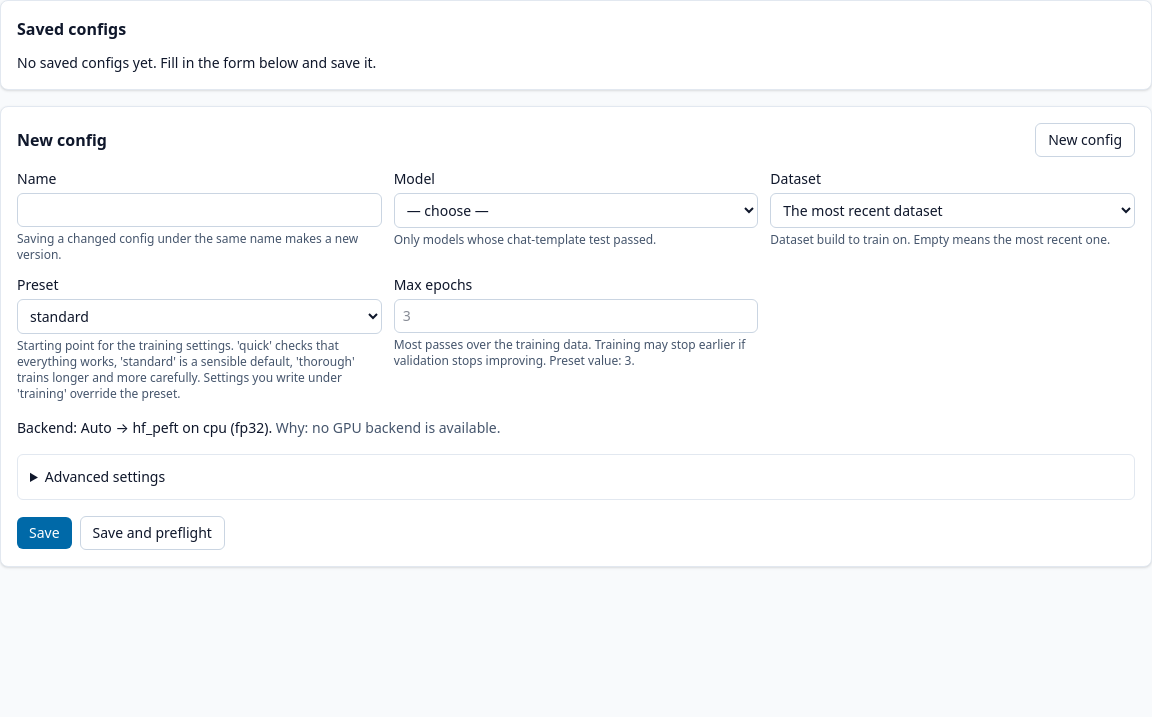
Test case: Training config › validates schema fields live and sends nothing while one is wrong
Expected: the text "Auto → hf_peft" is shown, [17, 418, 500, 437]
Type "cfg" into the field labelled "Name" at (199, 210), box [17, 193, 382, 227]
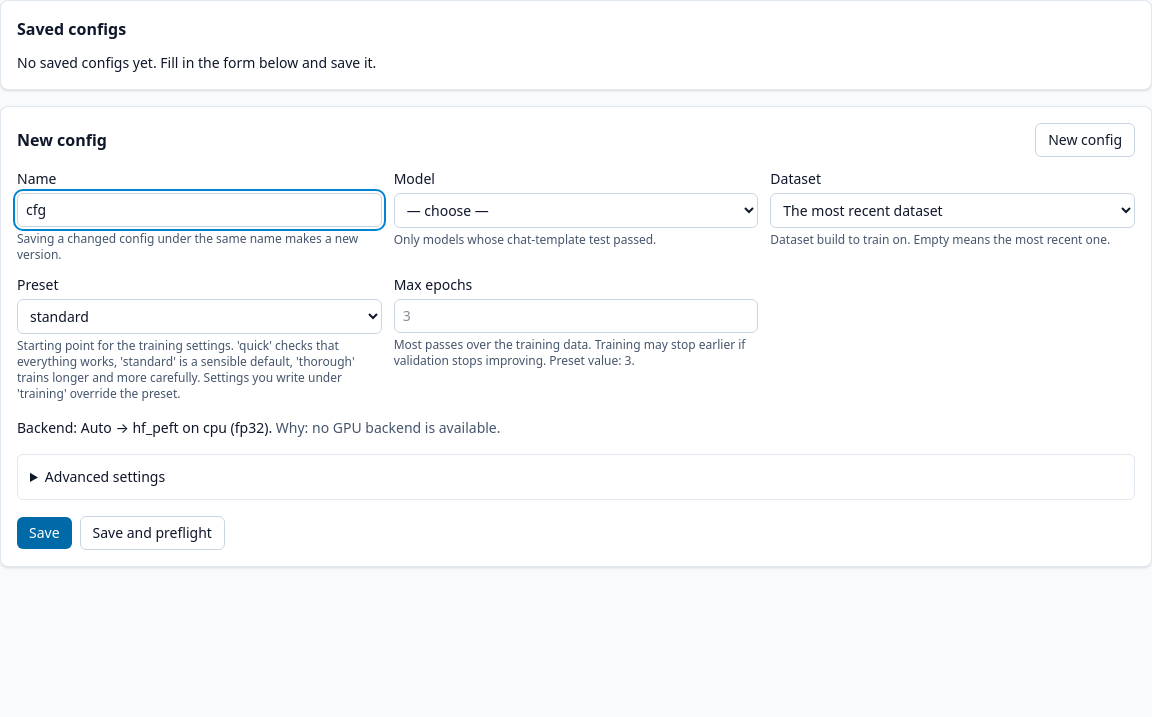
Select "Tiny Qwen2 (test) (0.002B) — fits (estimate)" in the dropdown labelled "Model" at (576, 210), box [394, 193, 758, 228]
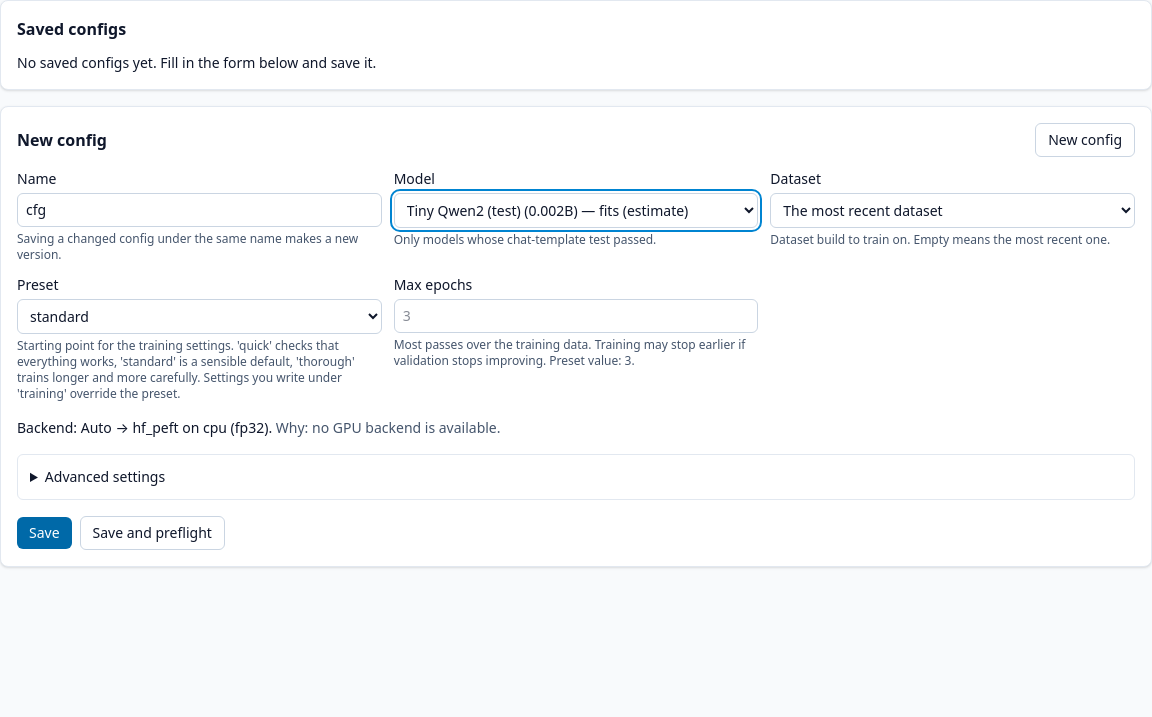
Click the heading "Advanced settings" at (105, 476), box [45, 467, 165, 486]
(page scrolled)
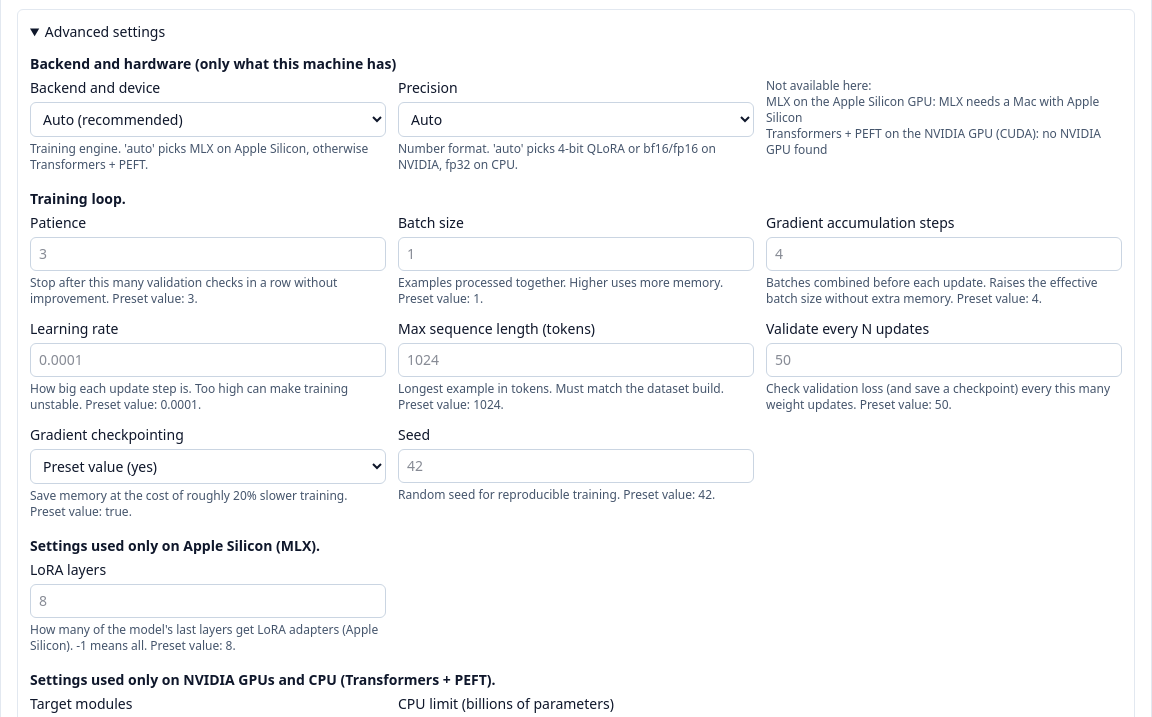
Expected: the text "How big each update step is" is shown, [30, 380, 348, 413]
Type "2" into the field labelled "Learning rate" at (208, 360), box [30, 343, 386, 377]
(page scrolled)
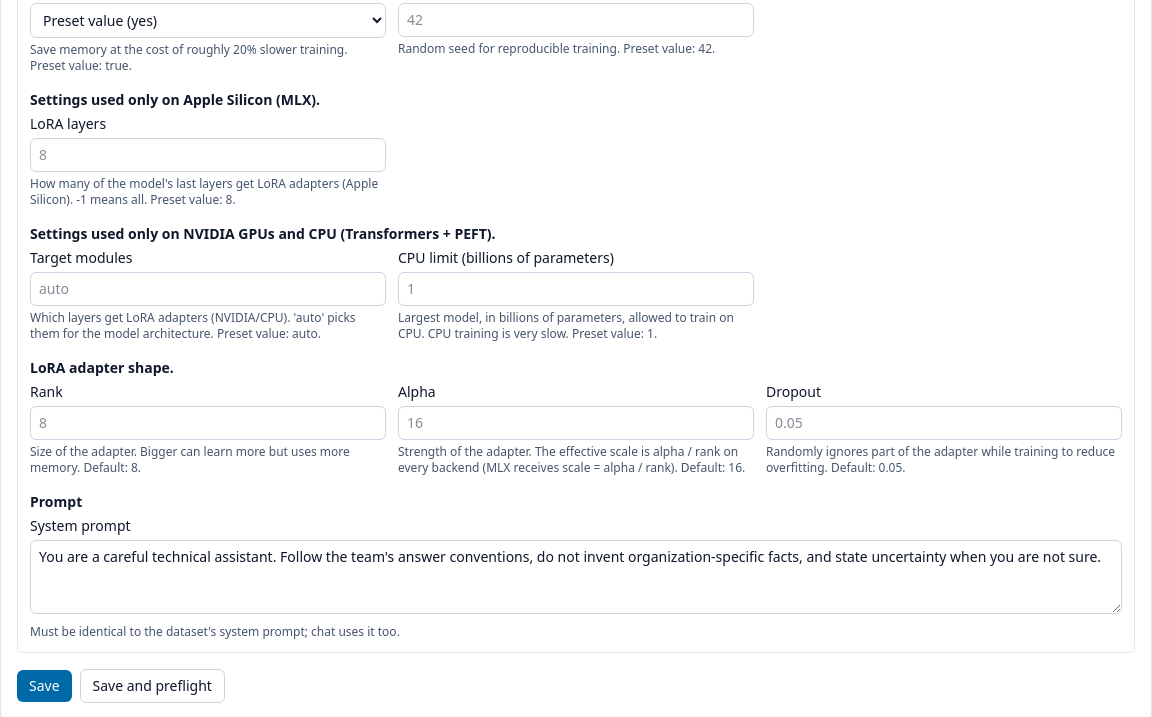
Click the button "Save" at (44, 686), box [17, 670, 72, 702]
(page scrolled)
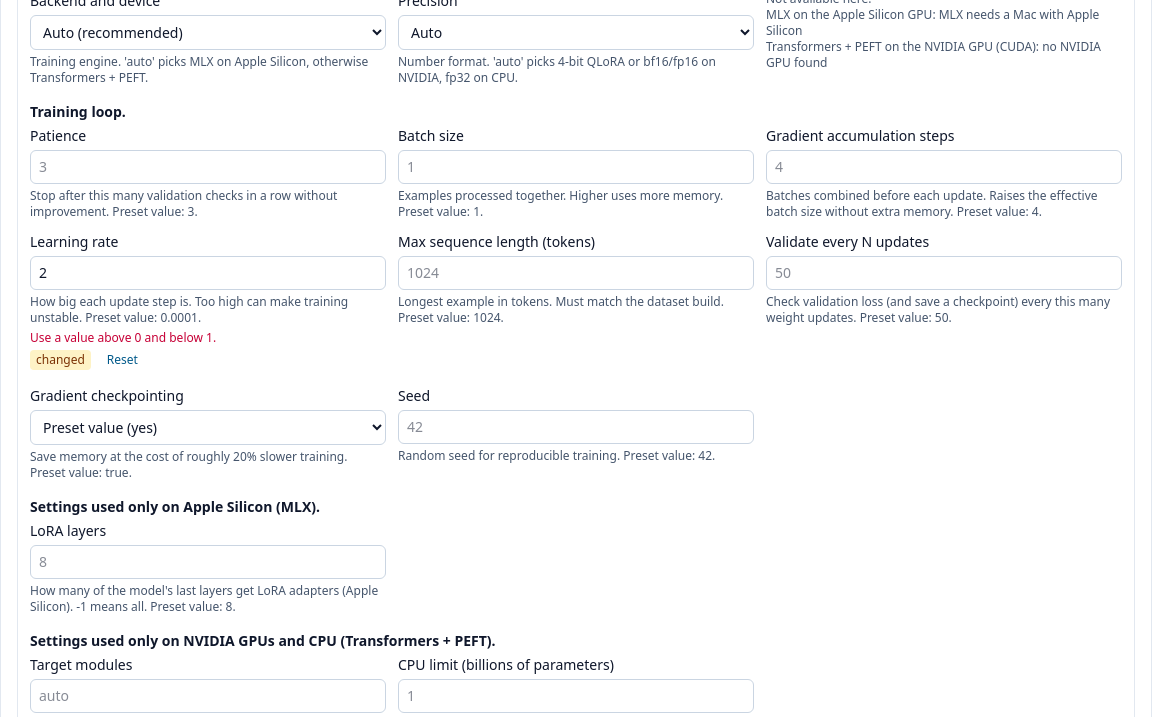
Click the button with aria-label "Reset Learning rate" at (122, 360), box [95, 346, 150, 374]
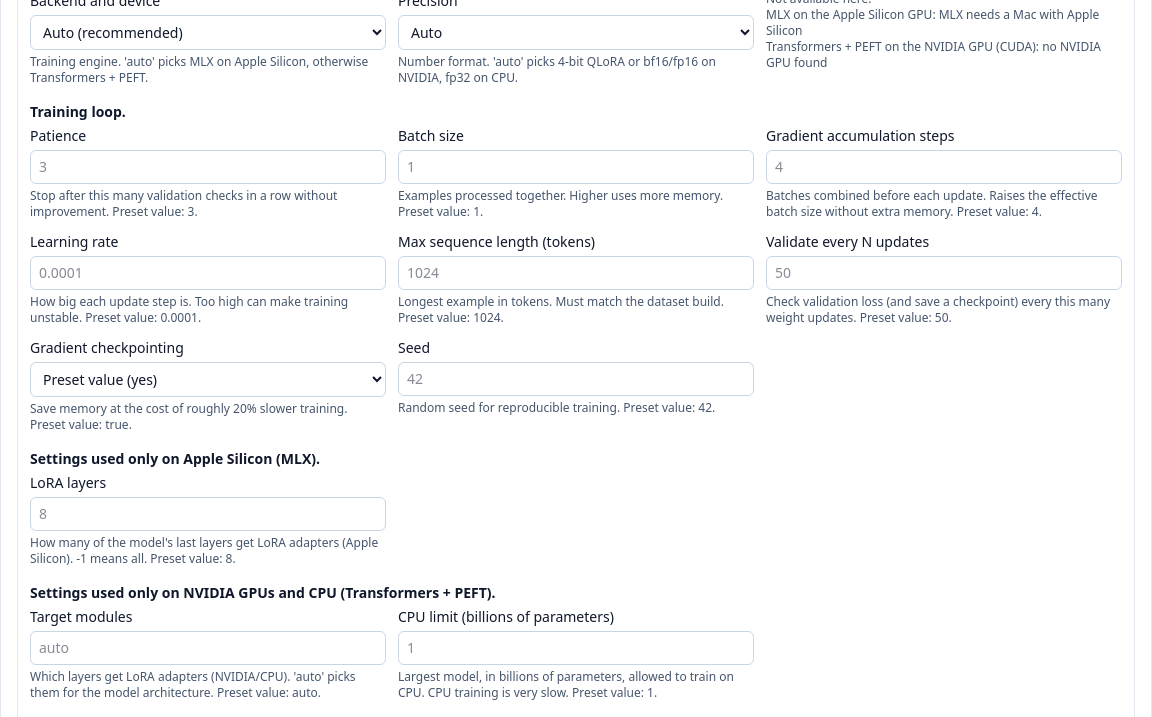
Expected: the text "Use a value above 0 and below 1." is gone
